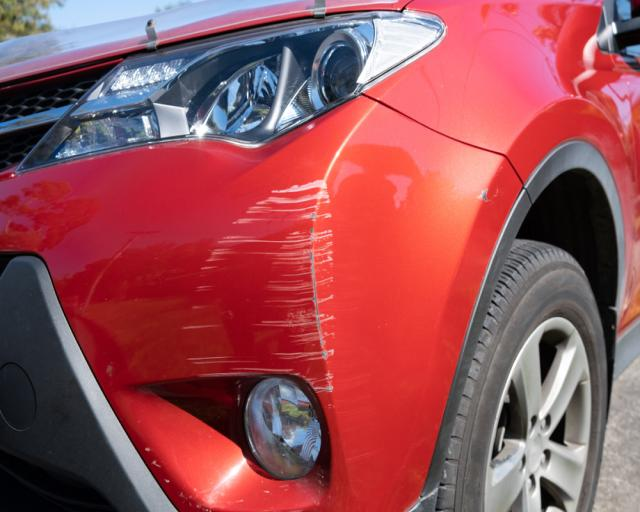scratch: (184, 176, 338, 398)
